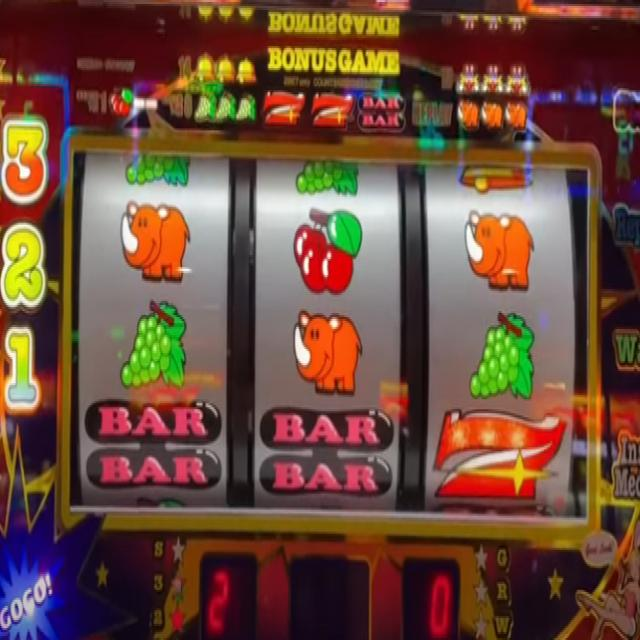bar: (85, 398, 222, 488), (261, 406, 395, 495), (358, 89, 404, 131)
bell: (459, 162, 533, 192), (236, 55, 258, 85), (218, 54, 238, 86), (195, 53, 215, 82)
cherry: (294, 210, 360, 292), (109, 87, 132, 115)
clown: (480, 62, 507, 95), (504, 69, 530, 98), (456, 64, 479, 94)
display: (71, 146, 588, 528)
elephant: (119, 200, 191, 281), (294, 310, 365, 392), (466, 207, 534, 288), (457, 97, 478, 130), (480, 101, 504, 129), (506, 99, 526, 130)
grape: (120, 299, 186, 392), (469, 309, 535, 401), (120, 152, 192, 187), (296, 158, 359, 198), (192, 94, 217, 121), (215, 91, 234, 122), (237, 97, 254, 124)
z: (436, 405, 566, 511), (265, 84, 304, 129), (314, 90, 350, 130)
